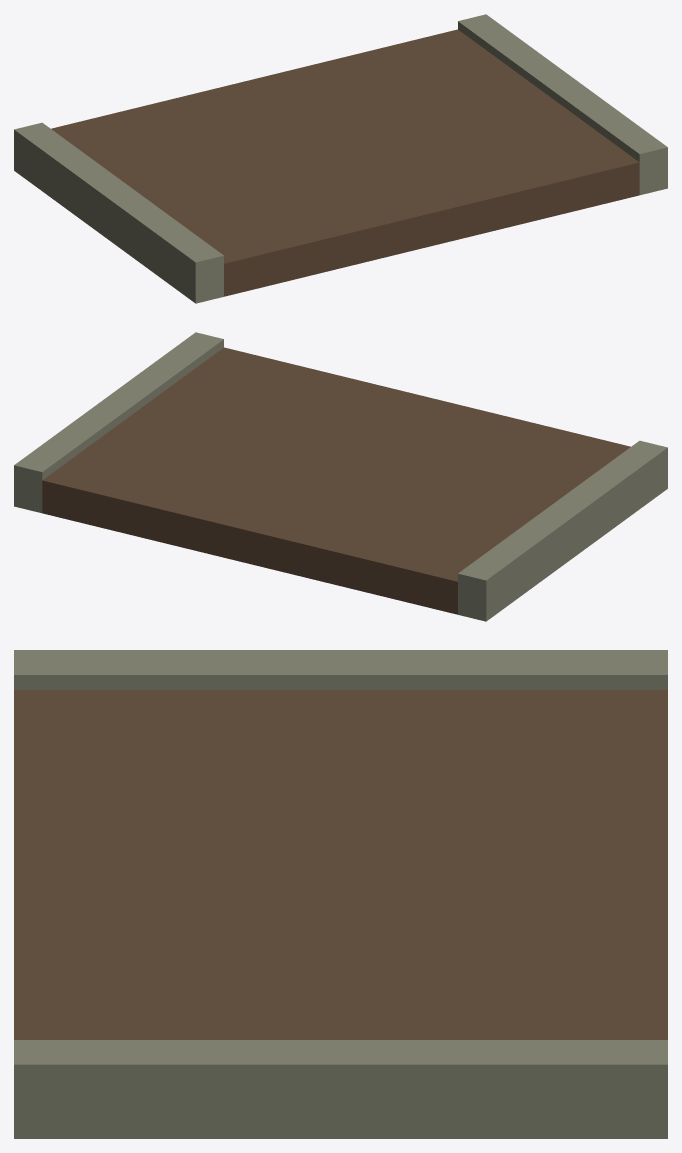
The model's file is center.fbx.
3 renders of one model, top to bottom at view 1: azimuth 30°, elevation 25°; view 2: azimuth 150°, elevation 25°; view 3: azimuth 270°, elevation 25°, orthographic. The views are drawn at different scales.
Visible parts, largest first — view 1: center; view 2: center; view 3: center.
Part boxes in pixels (x1,y1,x2,y2): center: [14, 14, 667, 303]; center: [14, 332, 667, 621]; center: [14, 650, 667, 1138].
Size of the model in its own units: 3 by 0.25 by 2.
